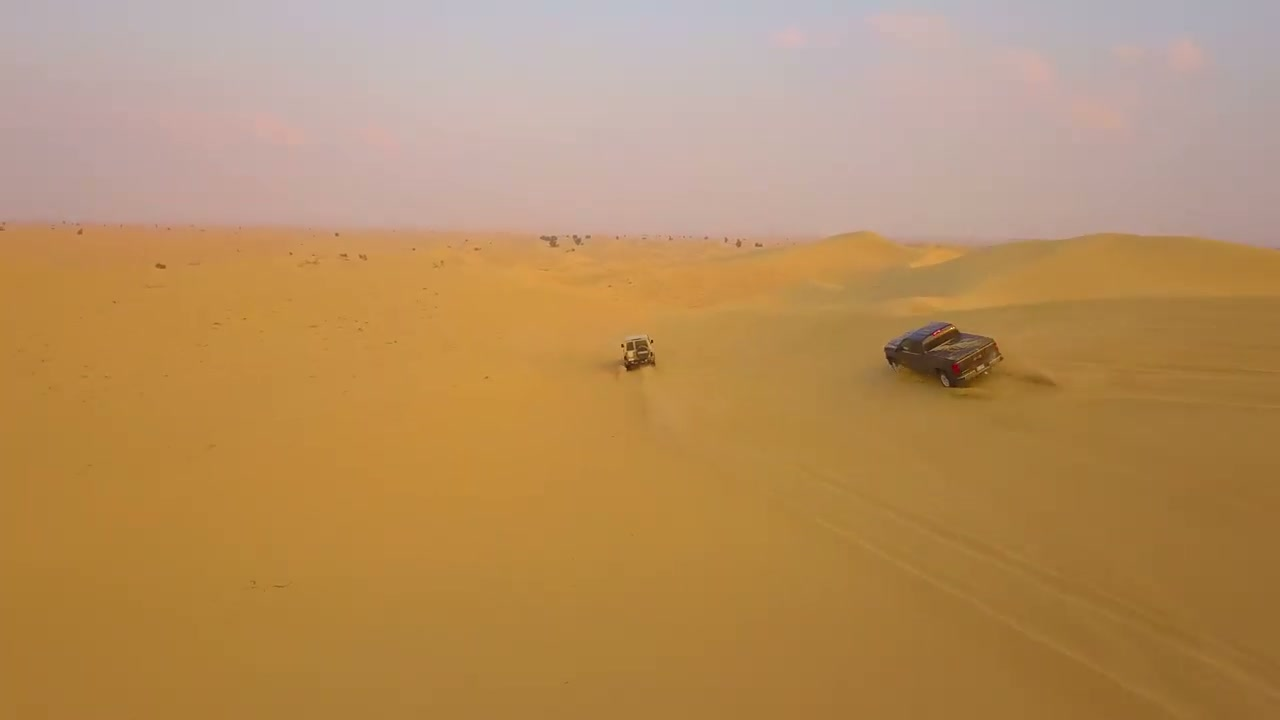vehicle_track: (646, 392, 1279, 718), (797, 465, 1279, 717)
